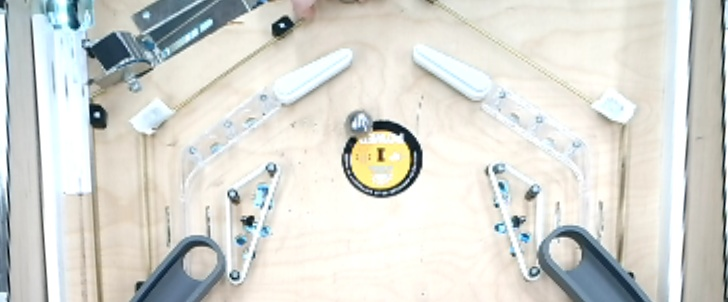ball: (344, 108, 375, 141)
flipper-left: (405, 39, 500, 112)
flipper-right: (271, 42, 359, 114)
